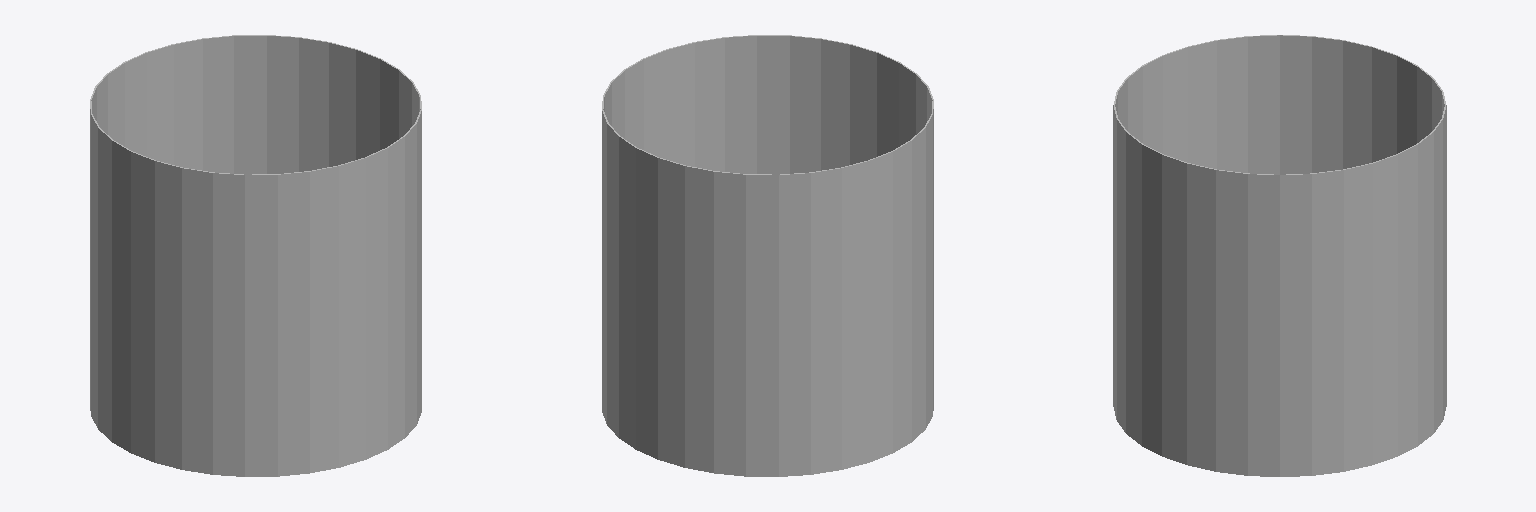
Rendered from wastebasket_8x8_.obj.
3 renders of one model, left to right at view 1: azimuth 30°, elevation 25°; view 2: azimuth 150°, elevation 25°; view 3: azimuth 270°, elevation 25°, orthographic.
Parts seen in each view (by area): view 1: Cylinder; view 2: Cylinder; view 3: Cylinder.
Part boxes in pixels (bbox=[...]): Cylinder: bbox=[90, 35, 421, 476]; Cylinder: bbox=[602, 35, 933, 476]; Cylinder: bbox=[1113, 35, 1446, 476].
Bounding box in the file's own units: 8 × 8 × 8.